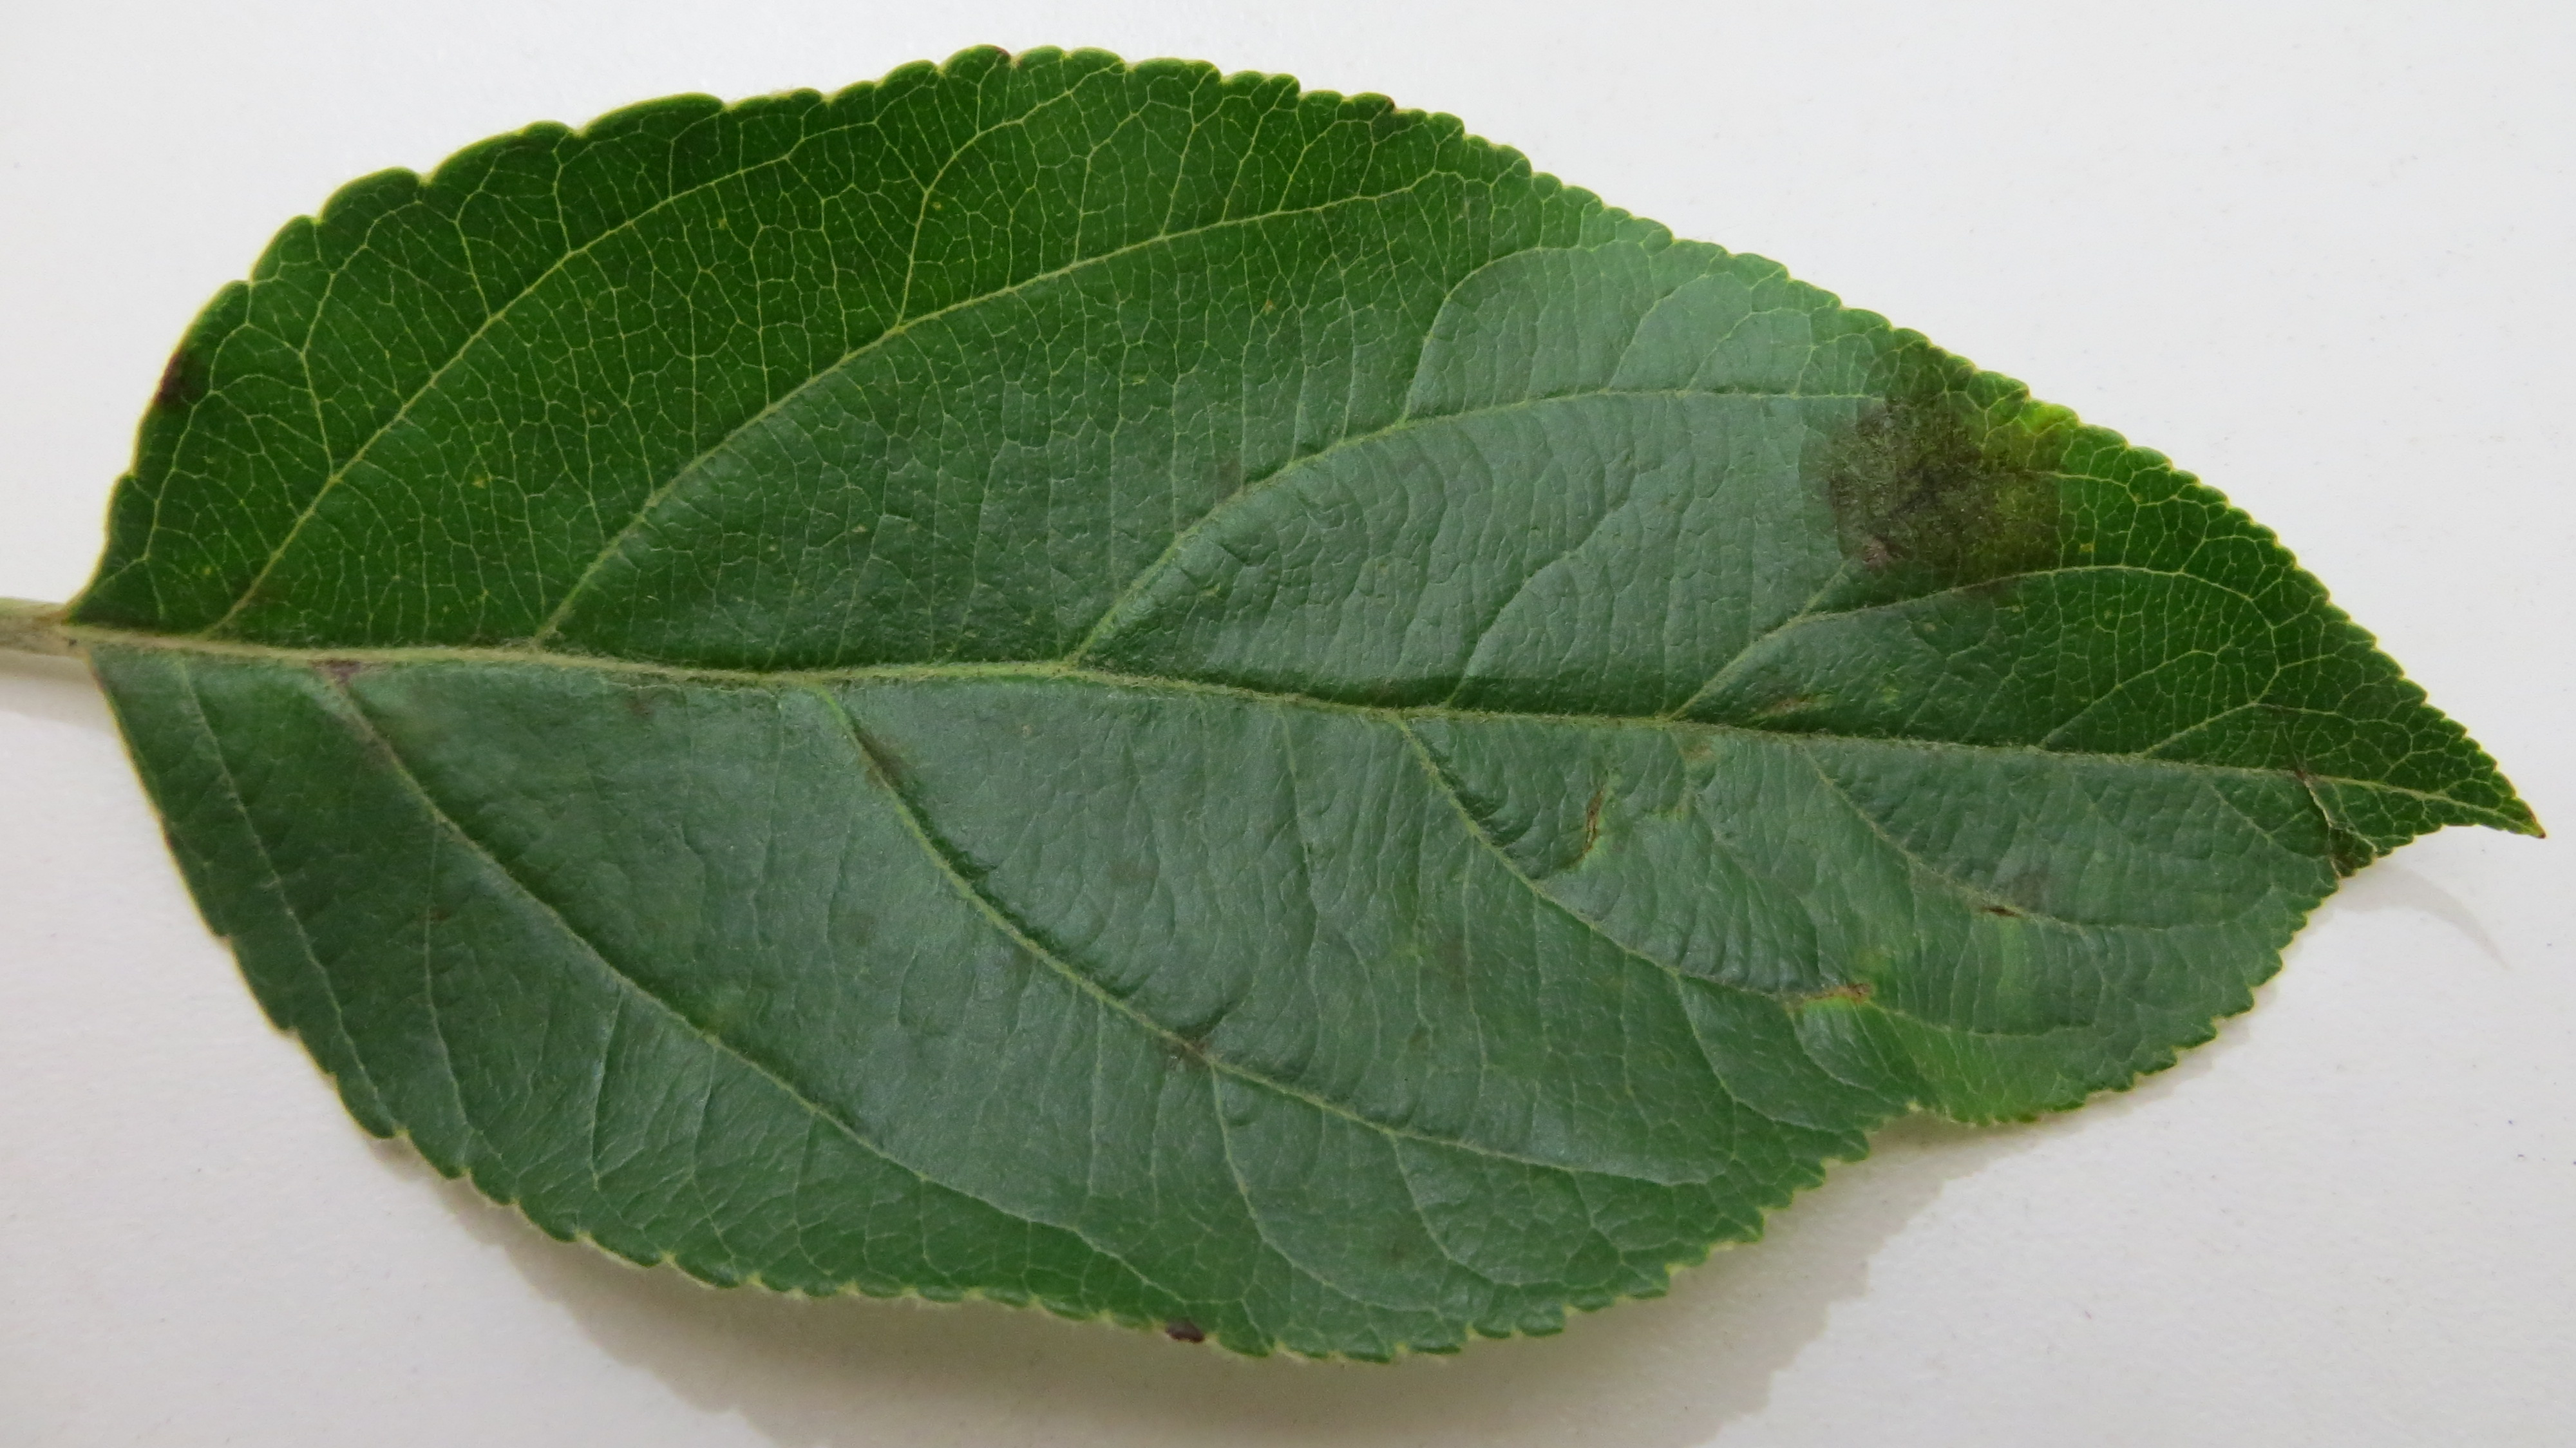sarna: (1798, 347, 2051, 623)
